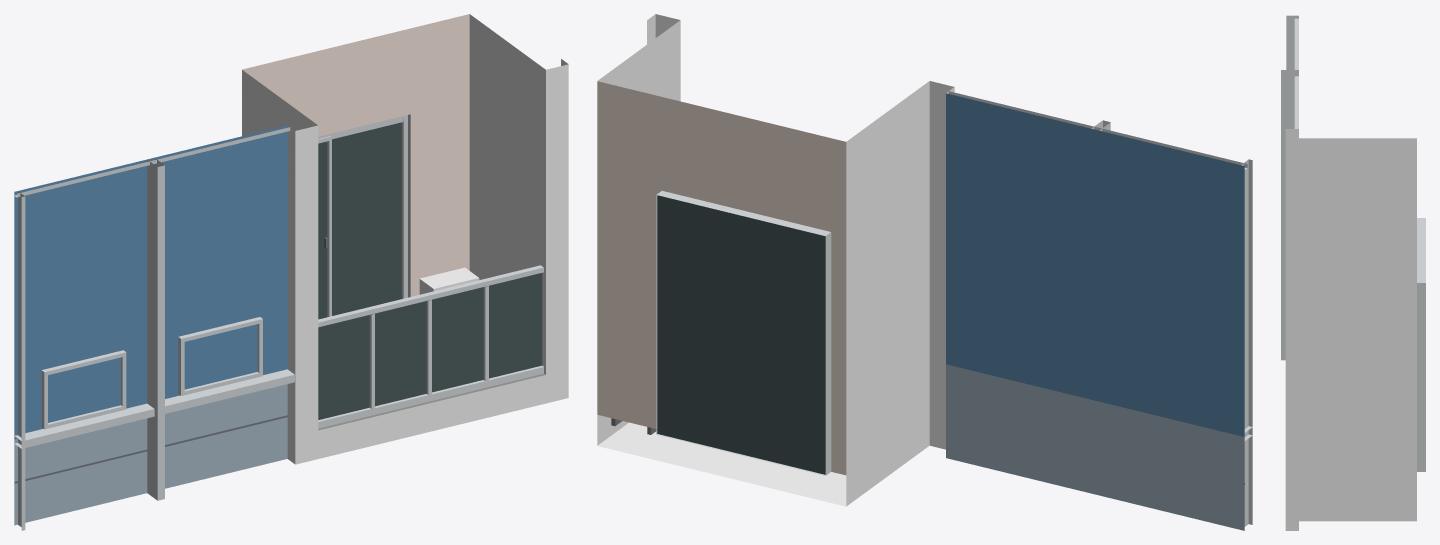
The model's file is mid-w1_close.fbx.
The picture shows the model from 3 angles, left to right: view 1: azimuth 30°, elevation 25°; view 2: azimuth 150°, elevation 25°; view 3: azimuth 270°, elevation 25°; orthographic projection. The views are drawn at different scales.
Visible parts, largest first — view 1: a2011/0/mid-w1_close; view 2: a2011/0/mid-w1_close; view 3: a2011/0/mid-w1_close.
Part boxes in pixels (x1,y1,x2,y2): a2011/0/mid-w1_close: (14, 14, 568, 530); a2011/0/mid-w1_close: (597, 14, 1252, 530); a2011/0/mid-w1_close: (1281, 15, 1425, 530).
Bounding box in the file's own units: 6 × 3.5 × 1.6.
